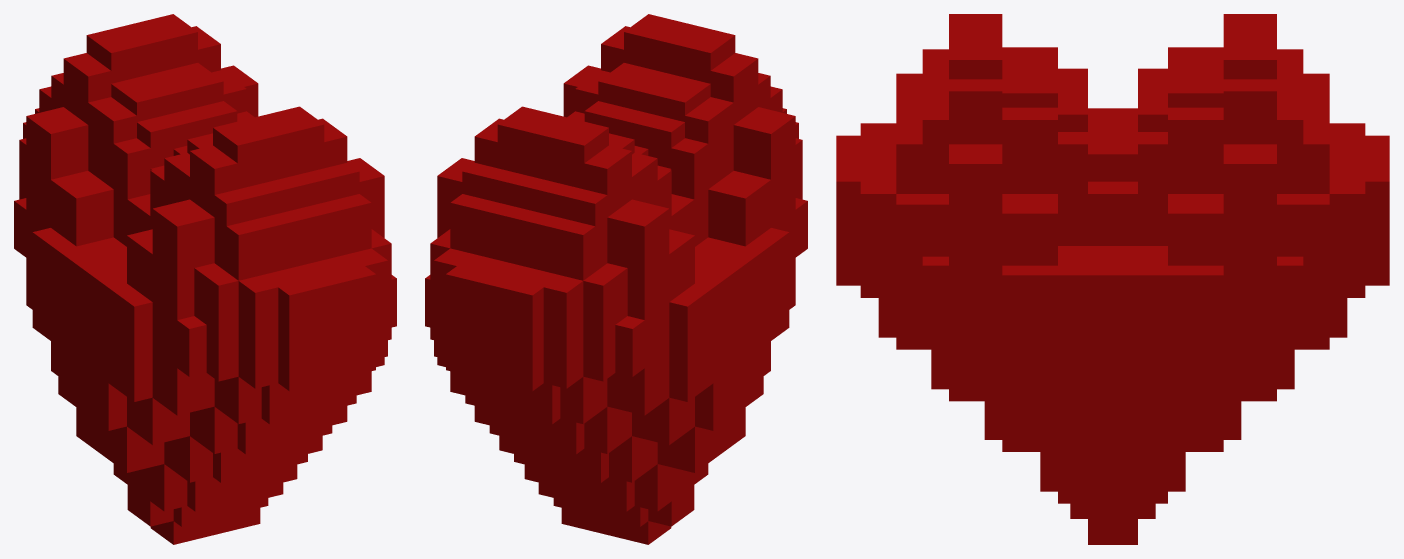
The model's file is Heart_Pixel.fbx.
The picture shows the model from 3 angles, left to right: view 1: azimuth 30°, elevation 25°; view 2: azimuth 150°, elevation 25°; view 3: azimuth 270°, elevation 25°; orthographic projection. The views are drawn at different scales.
Parts seen in each view (by area): view 1: Heart1; view 2: Heart1; view 3: Heart1.
Part boxes in pixels (left/top/right/bottom): Heart1: left=14, top=14, right=396, bottom=544; Heart1: left=425, top=14, right=807, bottom=544; Heart1: left=836, top=14, right=1389, bottom=544.
Bounding box in the file's own units: 0.4599 × 0.8034 × 0.8307.
